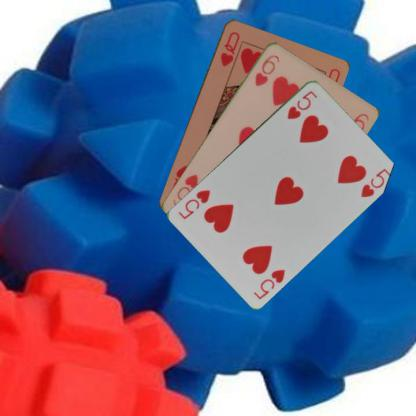5h: (250, 266, 286, 300), (284, 87, 319, 120)
6h: (252, 51, 282, 87)
Qh: (217, 28, 241, 68)
